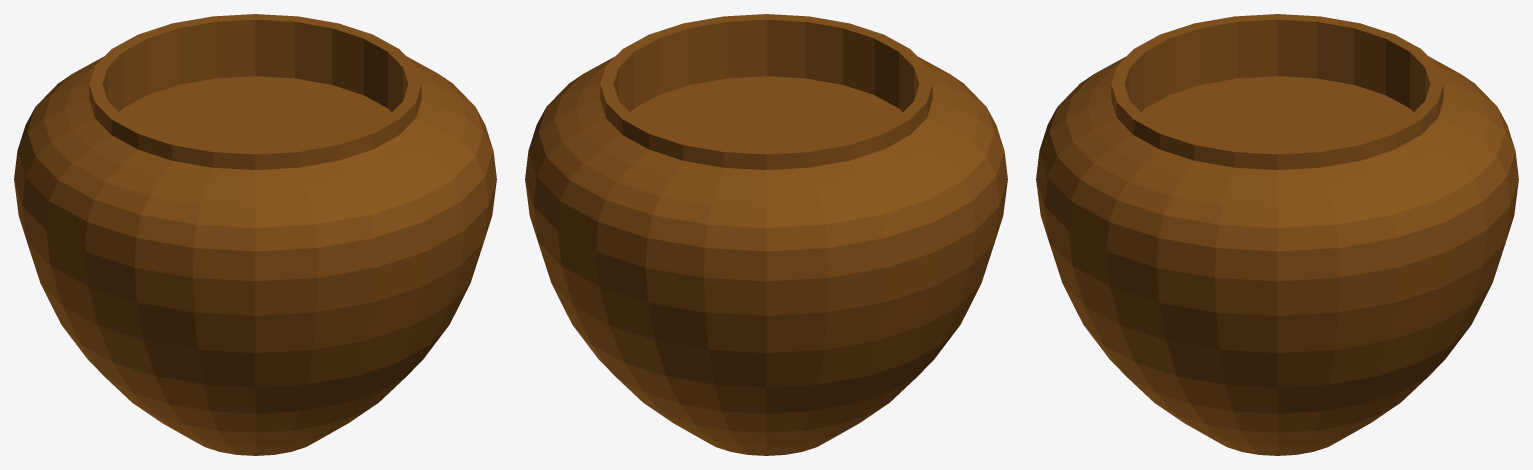
The model's file is SM_pottery_017.fbx.
3 views of the same model, side by side, from view 1: azimuth 30°, elevation 25°; view 2: azimuth 150°, elevation 25°; view 3: azimuth 270°, elevation 25° (orthographic).
Parts seen in each view (by area): view 1: Cylinder019; view 2: Cylinder019; view 3: Cylinder019.
Part boxes in pixels (x1=…): Cylinder019: x1=14, y1=14, x2=496, y2=455; Cylinder019: x1=525, y1=14, x2=1007, y2=455; Cylinder019: x1=1036, y1=14, x2=1518, y2=455.
Bounding box in the file's own units: 55.73 × 55.73 × 43.48.
